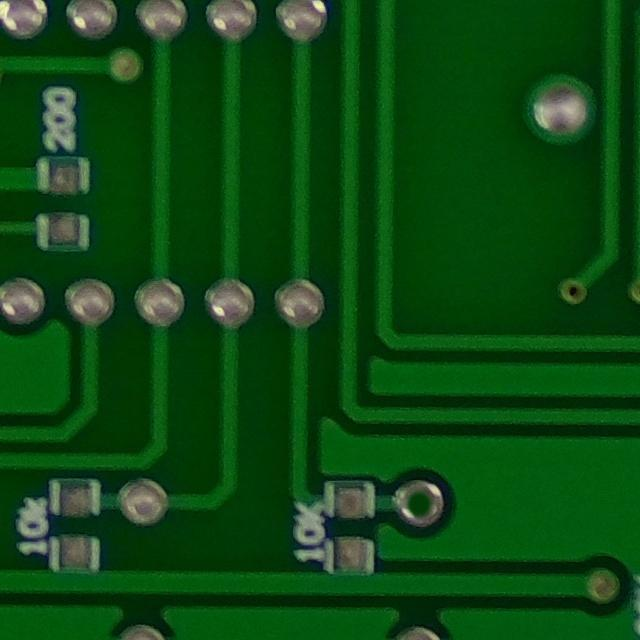missing_hole: (387, 471, 452, 535)
